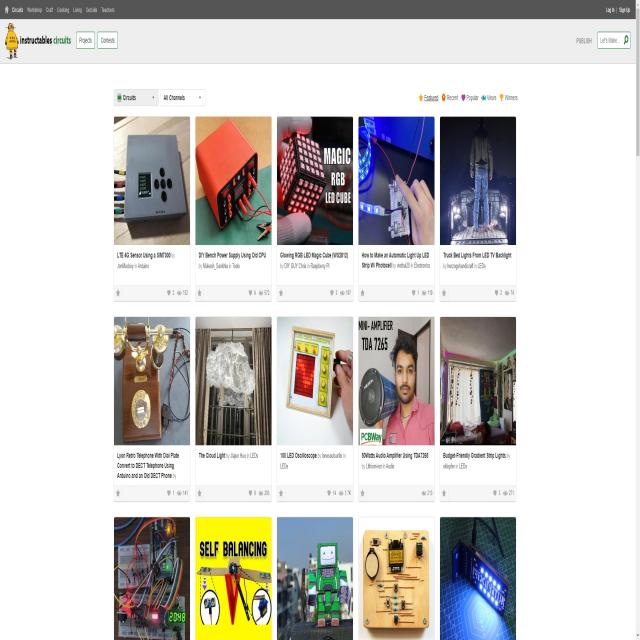menu-bar: (4, 4, 634, 14)
search: (597, 33, 629, 48)
tab-bar: (412, 86, 518, 110)
